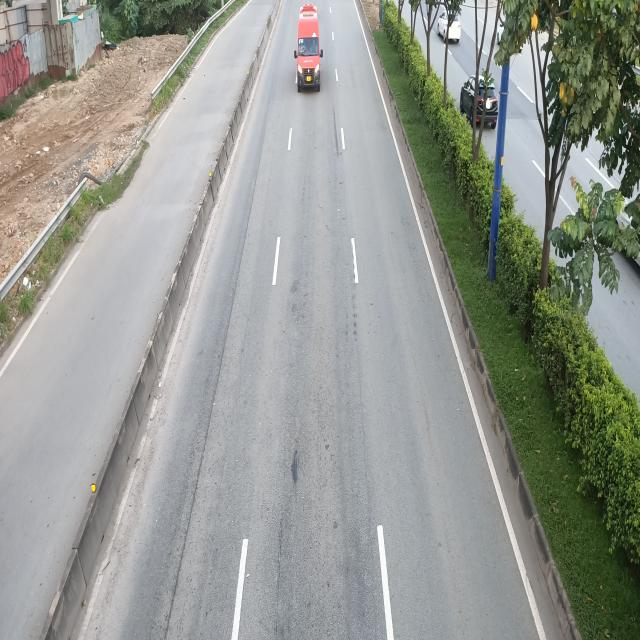van: (296, 3, 324, 89)
